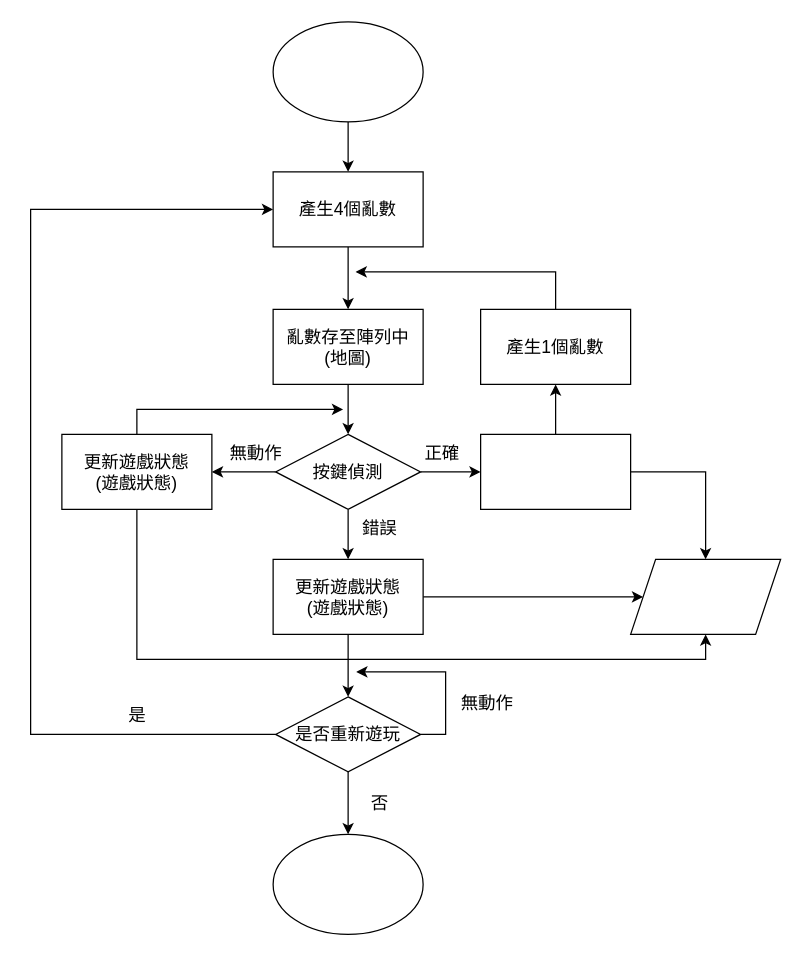
The diagram is 803 pixels wide and 956 high, and some of its shapes have lost their labels. The shapes that lost their labels are listed below. From the top down, each one's centre as x and y in pixels, then its label:
At point 347,71: "遊戲開始".
At point 555,471: "陣列資料更新 (地圖、遊戲狀態)".
At point 705,596: "輸出UART資料".
At point 347,883: "遊戲結束".
